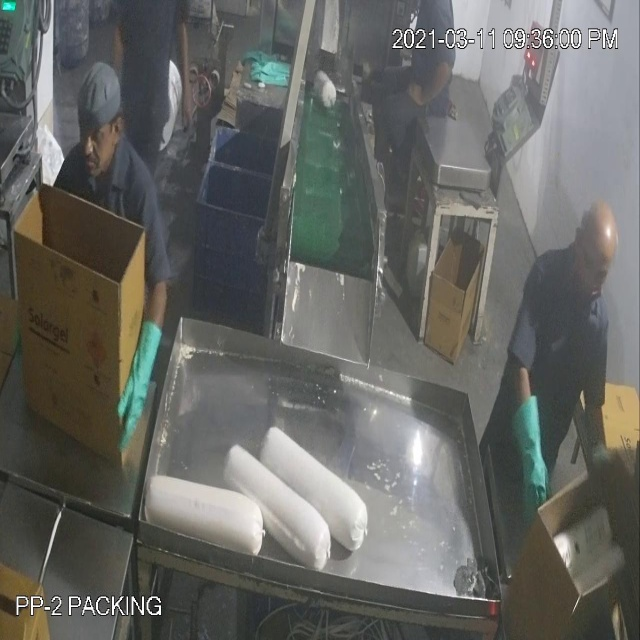Guantes: (106, 303, 174, 460), (505, 375, 558, 531)
Sin_guantes: (175, 12, 201, 144), (405, 60, 456, 120)
